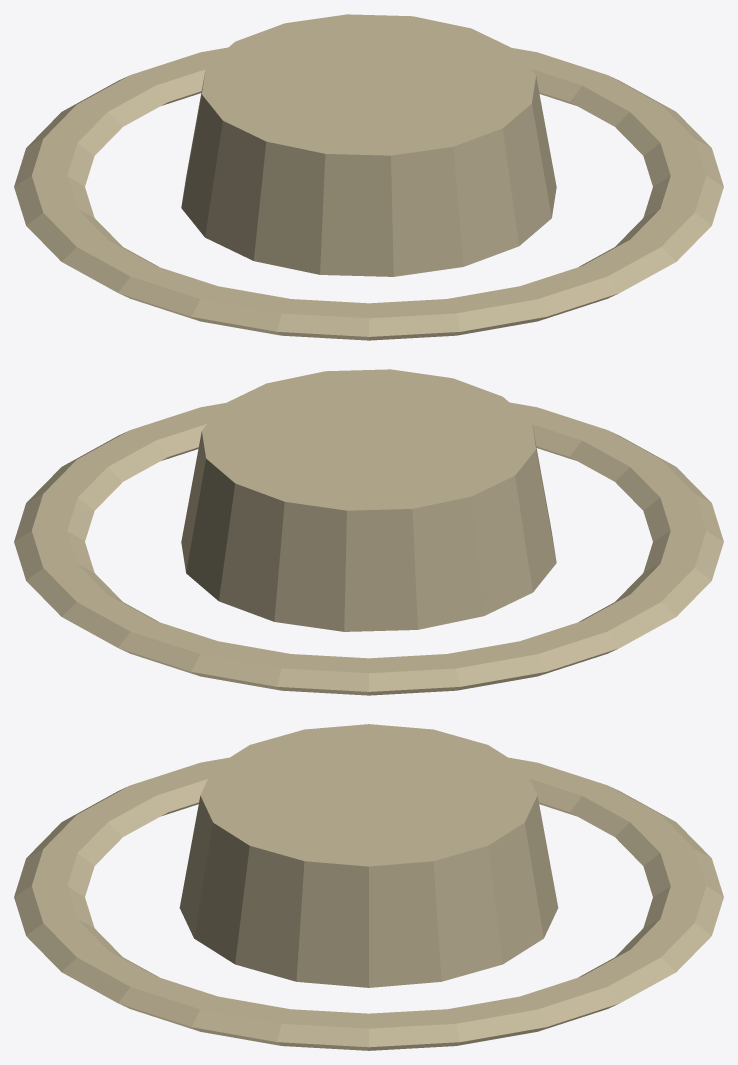
Rendered from StrawHat.fbx.
3 views of the same model, one above another, from view 1: azimuth 30°, elevation 25°; view 2: azimuth 150°, elevation 25°; view 3: azimuth 270°, elevation 25° (orthographic).
Parts seen in each view (by area): view 1: StrawHat; view 2: StrawHat; view 3: StrawHat.
Boxes of the visible parts, <box> form: StrawHat: <box>14,14,723,340</box>; StrawHat: <box>14,369,723,695</box>; StrawHat: <box>14,724,723,1050</box>.
Bounding box in the file's own units: 24 × 4.22 × 24.
